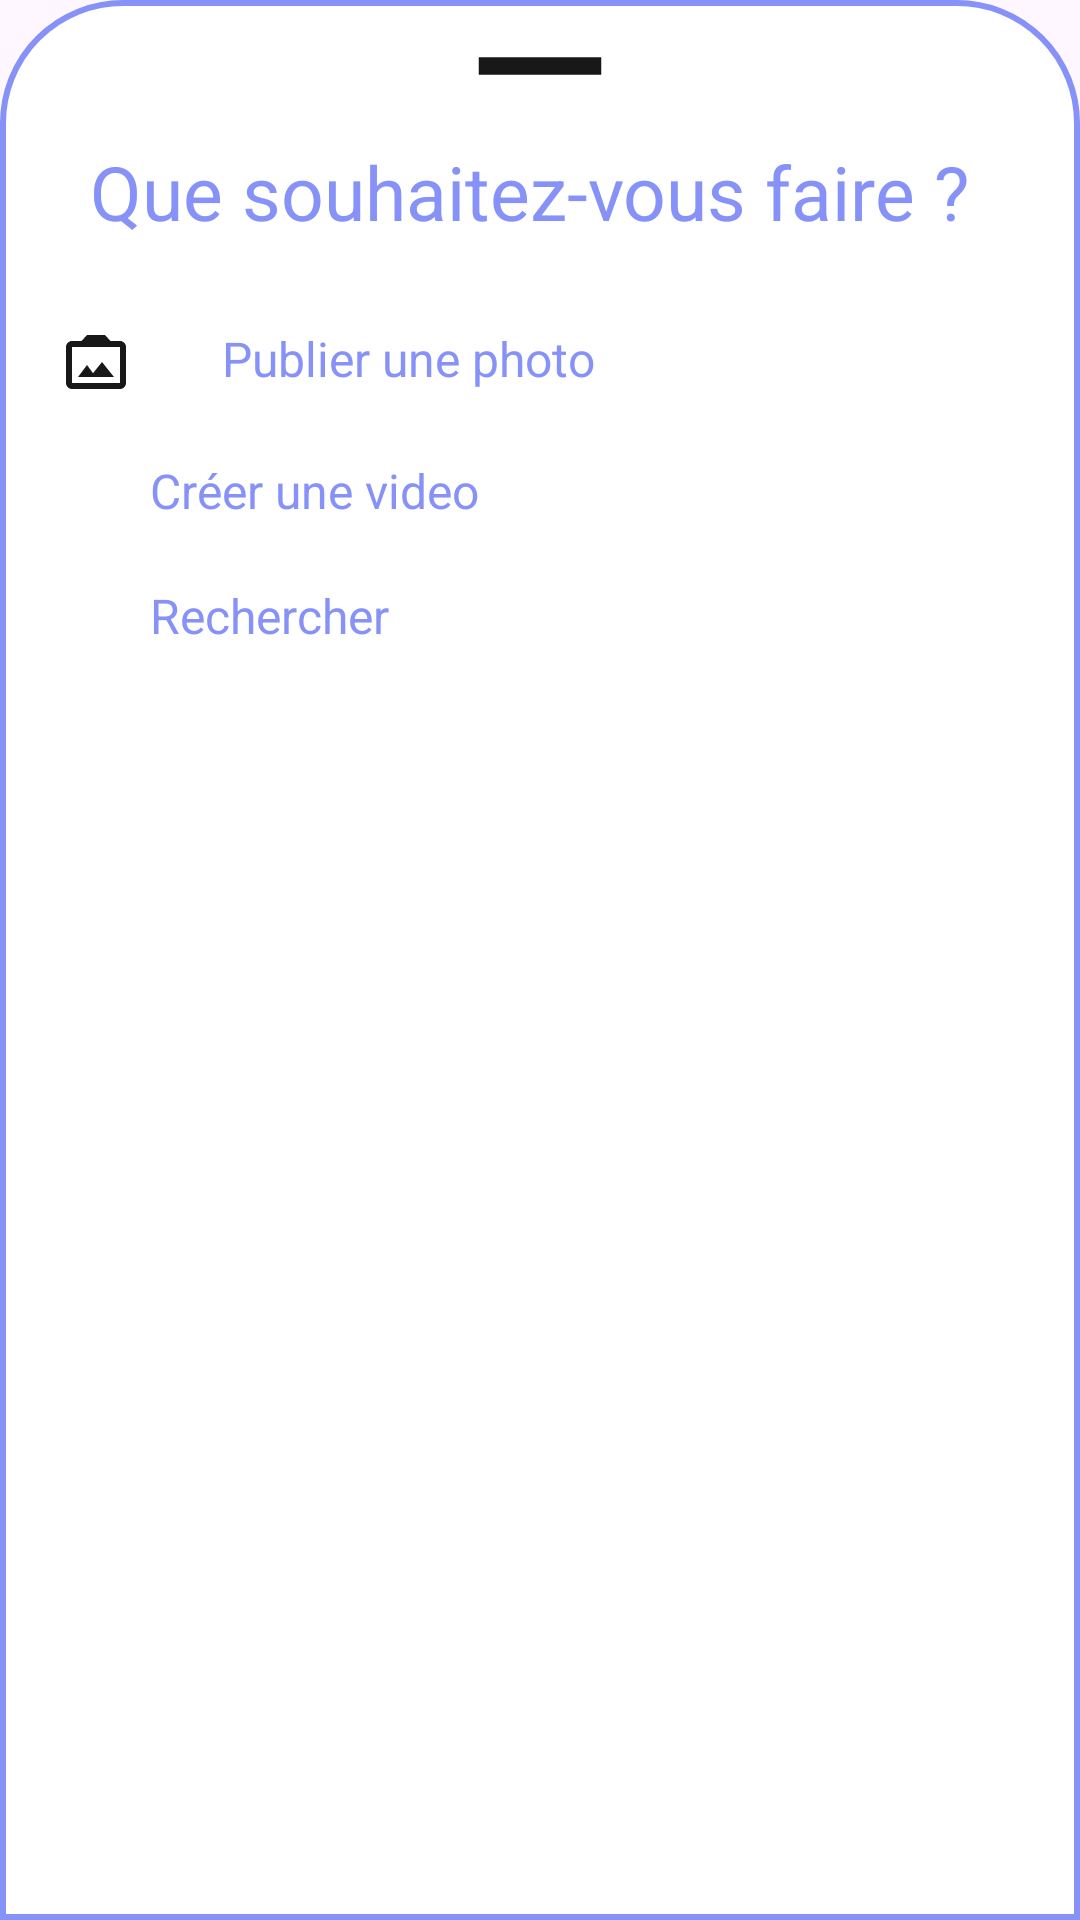

Point at icon controls on the screen. Image size 1080px x 1920px, points as [x,y].
photo camera back: [96,362]
